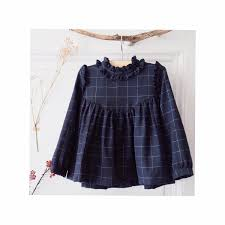C_blouse: (54, 60, 193, 188)
